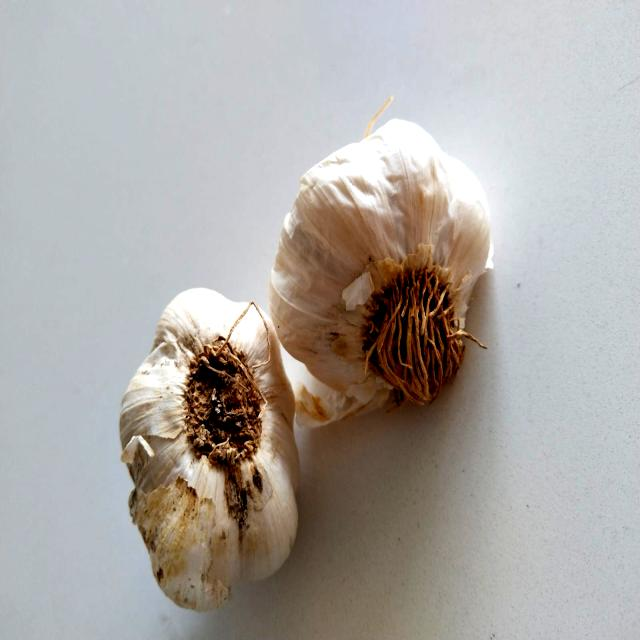garlic: (91, 270, 312, 607), (277, 105, 506, 412)
